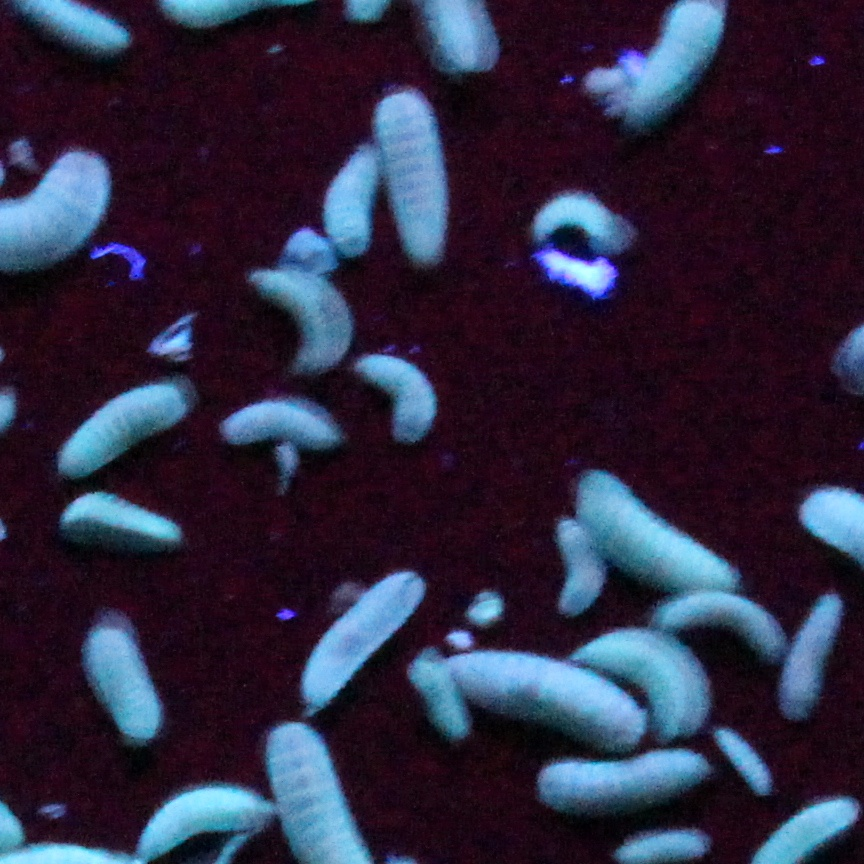larve: (291, 567, 431, 705), (588, 457, 737, 585), (463, 641, 637, 744), (62, 363, 195, 472), (585, 621, 719, 726), (366, 93, 451, 256), (72, 613, 169, 746), (136, 776, 278, 856), (258, 260, 358, 369), (537, 751, 719, 808), (657, 574, 778, 647), (203, 390, 350, 445), (533, 176, 630, 257), (350, 345, 431, 435), (323, 137, 379, 255), (70, 481, 176, 542), (415, 648, 474, 733), (706, 719, 769, 797), (554, 513, 597, 606)
